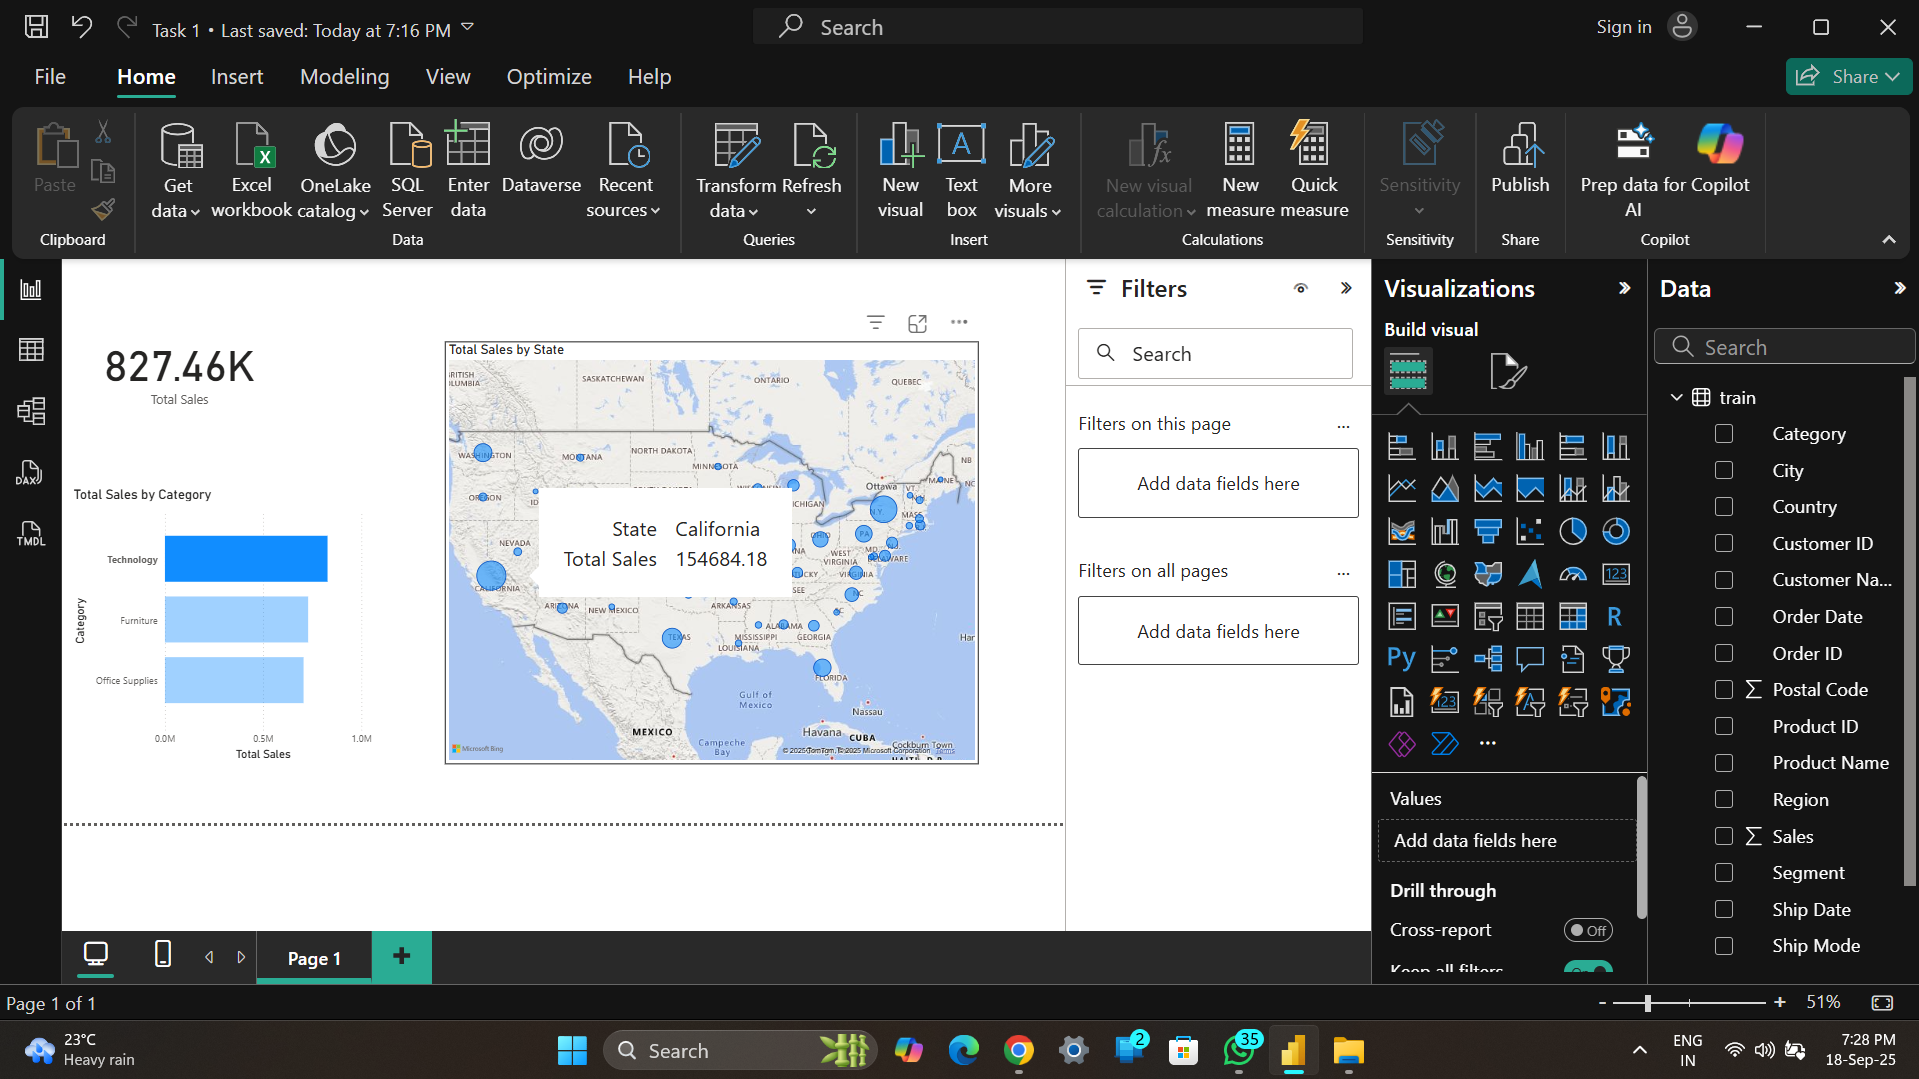

The page's visual inventory and layout, read from the dashboard file:
{"tool":"powerbi","page":{"name":"Page 1","canvas":[1280,720],"ordinal":0},"visuals":[{"type":"card","fields":{"Values":["train.Total Sales"]},"box":[10,0,280,280],"z":0},{"type":"clusteredBarChart","fields":{"Category":["train.Category"],"Y":["train.Total Sales"]},"box":[9.7,290,391.2,354.2],"z":1},{"type":"map","fields":{"Category":["train.State"],"Size":["train.Total Sales"]},"box":[488.5,105.1,681.2,539.1],"z":2}]}

Visuals, with their boxes on the page's 1280x720 design canvas (x1, y1, x2, y2). These are canvas units, not pixel positions in the 1919x1079 screenshot, which may show the page scaled, cropped or inside an application window:
card - train.Total Sales: [x1=10, y1=0, x2=290, y2=280]
clusteredBarChart - train.Category x train.Total Sales: [x1=10, y1=290, x2=401, y2=644]
map - train.State x train.Total Sales: [x1=488, y1=105, x2=1170, y2=644]
